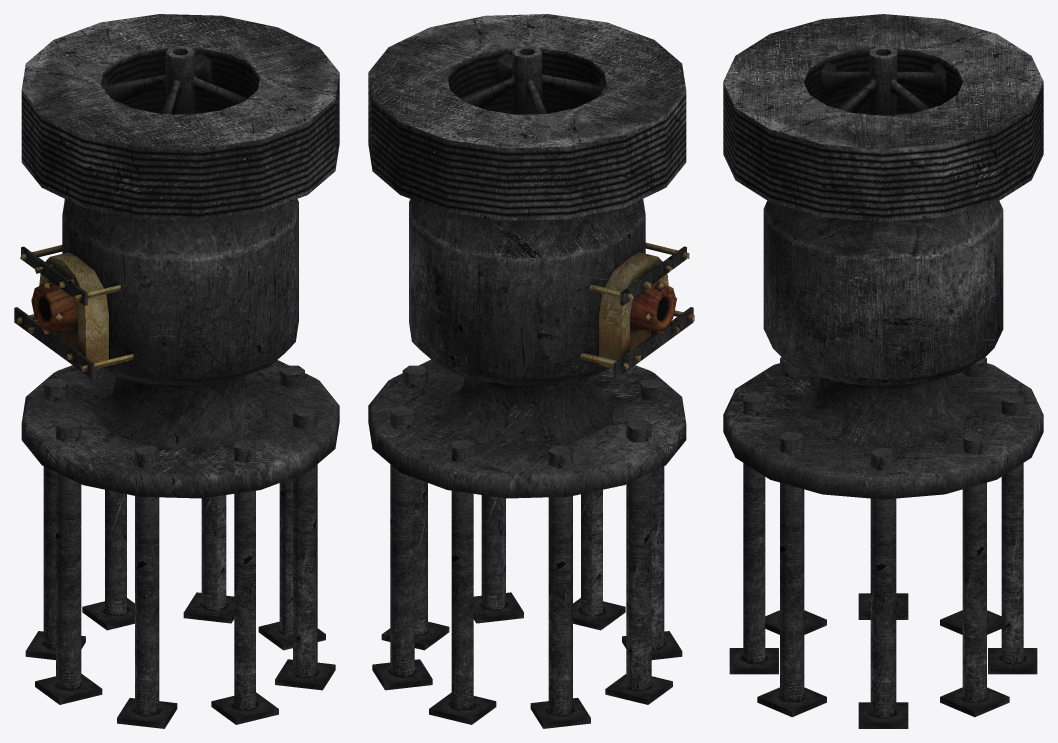
File: channeling_machine.dae
3 renders of one model, left to right at view 1: azimuth 30°, elevation 25°; view 2: azimuth 150°, elevation 25°; view 3: azimuth 270°, elevation 25°, orthographic.
Parts seen in each view (by area): view 1: polySurface17; view 2: polySurface17; view 3: polySurface17.
Part boxes in pixels (<box>): polySurface17: <box>14,14,339,728</box>; polySurface17: <box>368,14,694,728</box>; polySurface17: <box>723,14,1043,728</box>.
Size of the model in its own units: 0.7125 by 1.5 by 0.7124.
